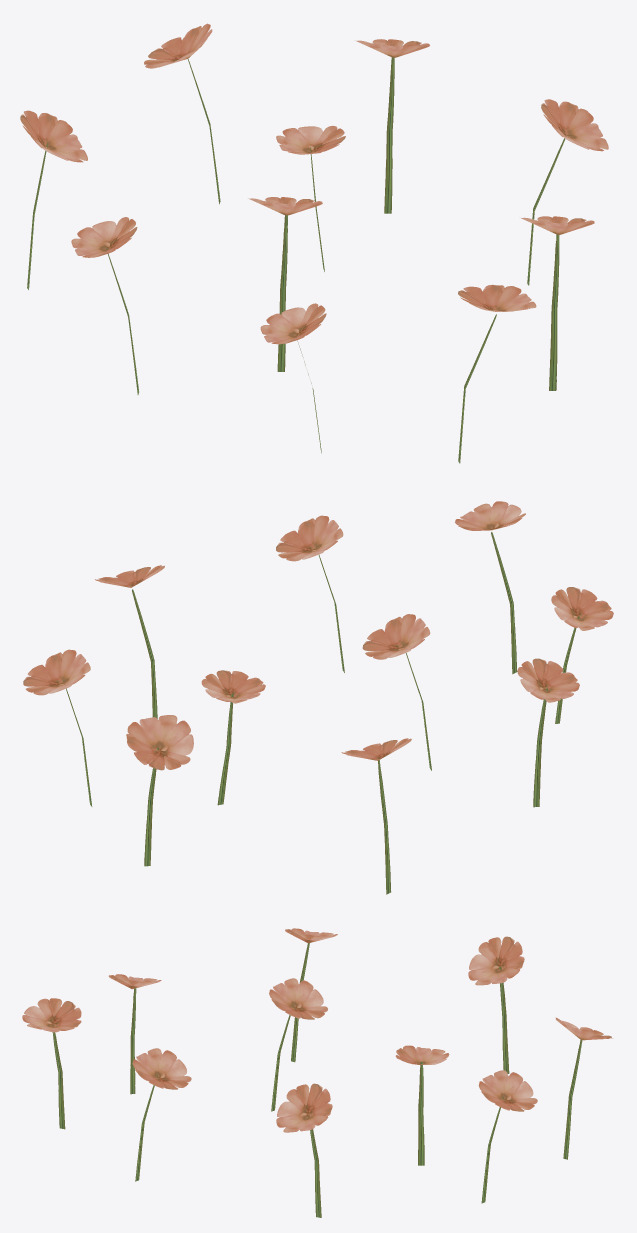
The model's file is SM_Ground_Soft_Pink_Flower_D.fbx.
3 renders of one model, top to bottom at view 1: azimuth 30°, elevation 25°; view 2: azimuth 150°, elevation 25°; view 3: azimuth 270°, elevation 25°, orthographic. The views are drawn at different scales.
Parts seen in each view (by area): view 1: SM_Ground_Soft_Pink_Flower_D_LOD0; view 2: SM_Ground_Soft_Pink_Flower_D_LOD0; view 3: SM_Ground_Soft_Pink_Flower_D_LOD0.
Boxes of the visible parts, x1=… form: SM_Ground_Soft_Pink_Flower_D_LOD0: x1=20, y1=23, x2=608, y2=463; SM_Ground_Soft_Pink_Flower_D_LOD0: x1=23, y1=501, x2=613, y2=894; SM_Ground_Soft_Pink_Flower_D_LOD0: x1=22, y1=928, x2=613, y2=1217.
Size of the model in its own units: 78.96 by 96.71 by 25.38.
Materials: 1 (1 with a texture image).
